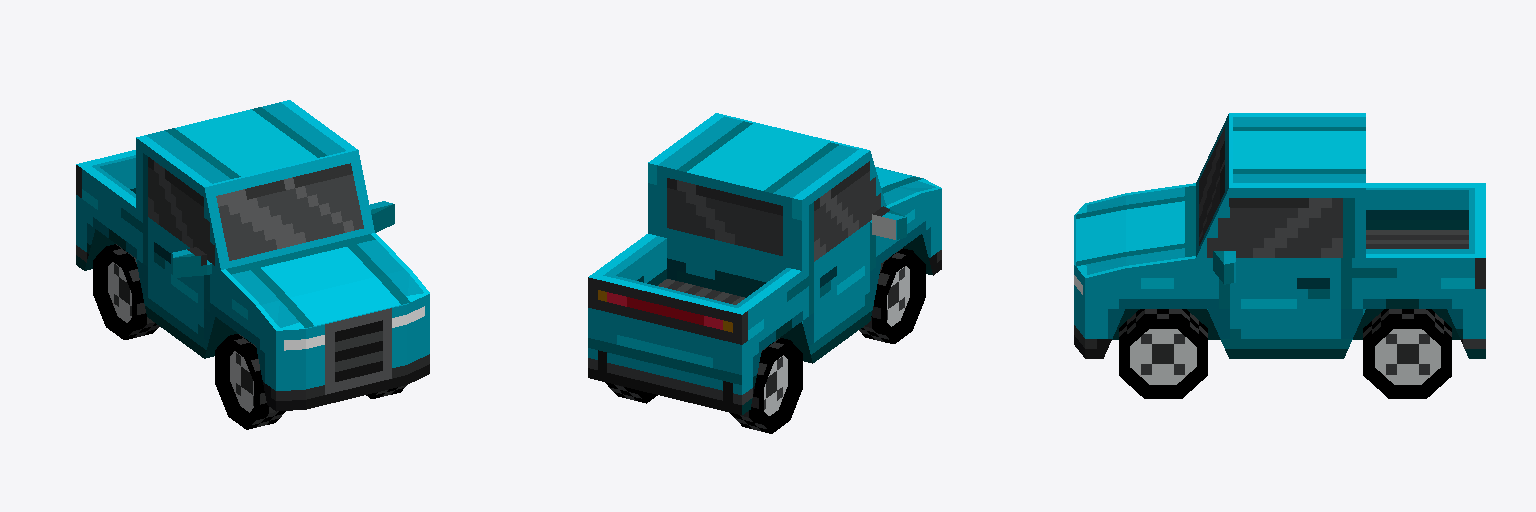
3 renders of one model, left to right at view 1: azimuth 30°, elevation 25°; view 2: azimuth 150°, elevation 25°; view 3: azimuth 270°, elevation 25°, orthographic.
Parts seen in each view (by area): view 1: body, cylinder, mirror_right, mirror_left; view 2: body, cylinder, mirror_right; view 3: body, cylinder, mirror_left.
Part boxes in pixels (x1,y1,x2,y2): body: (76,100,429,411); cylinder: (93,244,406,429); mirror_right: (172,247,211,277); mirror_left: (370,201,394,232); body: (588,113,941,414); cylinder: (605,248,925,433); mirror_right: (870,206,906,239); body: (1074,113,1485,358); cylinder: (1119,309,1451,398); mirror_left: (1213,251,1235,284).
Bounding box in the file's own units: 1.44 × 1.31 × 2.31.
1 materials, 1 textured.